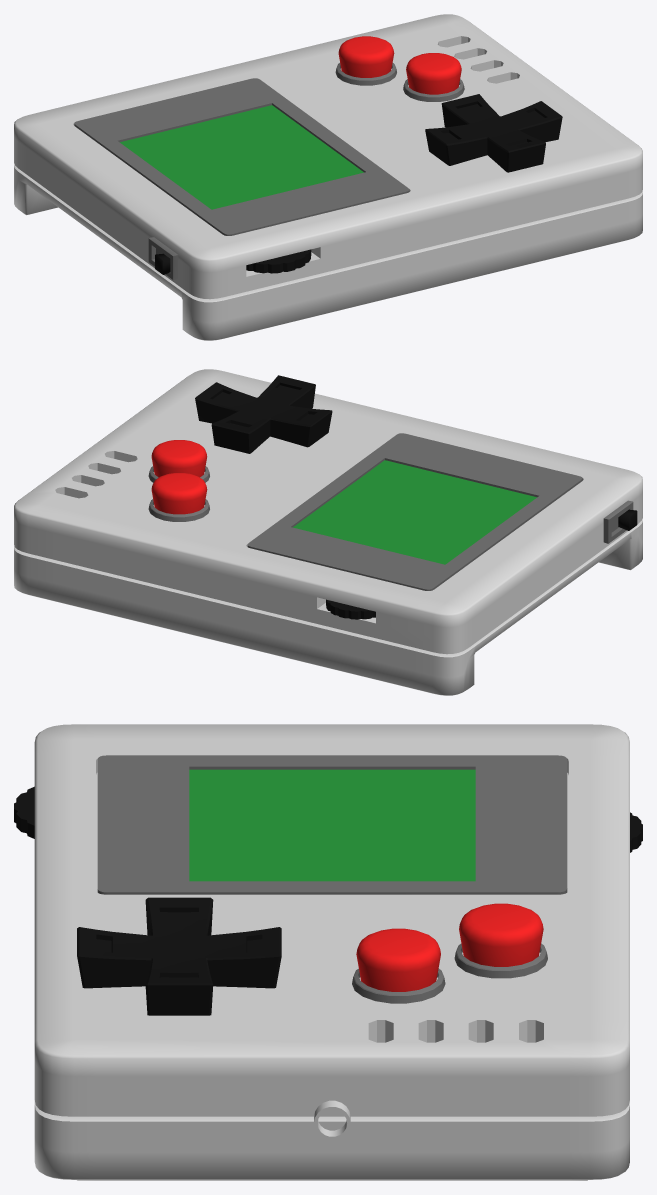
Rendered from Gameboy.FBX.
3 renders of one model, top to bottom at view 1: azimuth 30°, elevation 25°; view 2: azimuth 150°, elevation 25°; view 3: azimuth 270°, elevation 25°, orthographic. The views are drawn at different scales.
Visible parts, largest first — view 1: Box115; view 2: Box115; view 3: Box115.
Part boxes in pixels (<box>): Box115: <box>14,14,642,340</box>; Box115: <box>14,369,642,695</box>; Box115: <box>14,724,642,1180</box>.
Size of the model in its own units: 2099 by 517 by 1595.
